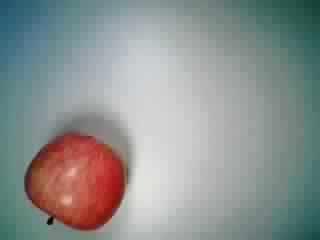apple: (22, 131, 129, 234)
